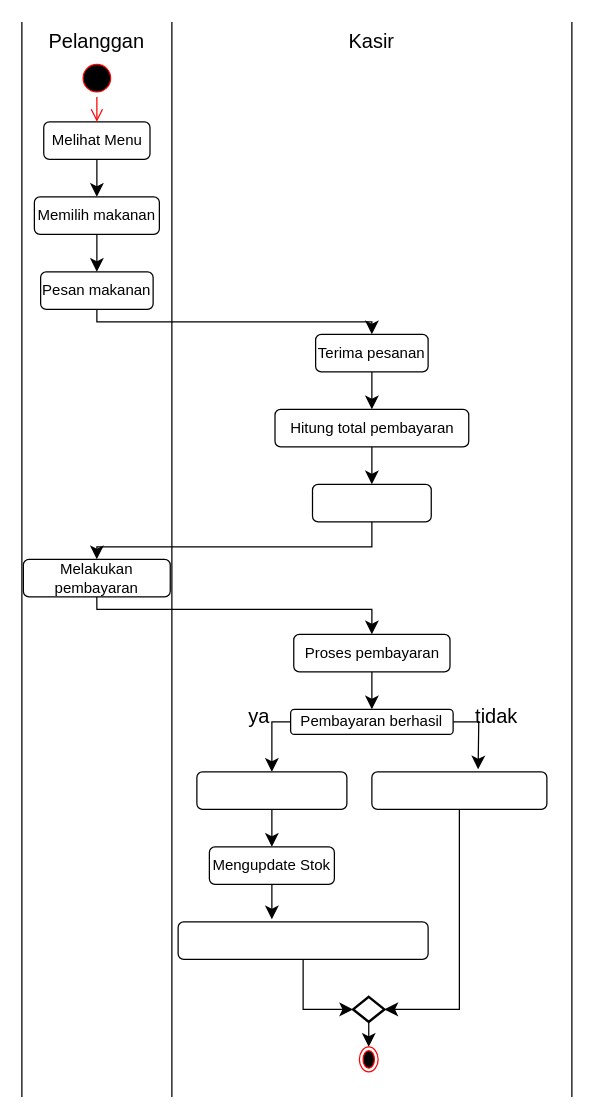
This 595x1120 diagram has some shape labels left out. Each missing label, with the box of its shape:
Berikan struk: (311, 483, 431, 522)
Mencatat penjualan: (196, 771, 347, 809)
Menghasilkan Laporan Penjualan: (177, 921, 428, 959)
Tampilkan Pesan Kesalahan: (371, 771, 547, 809)
